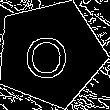O_N: (26, 27, 75, 81)
